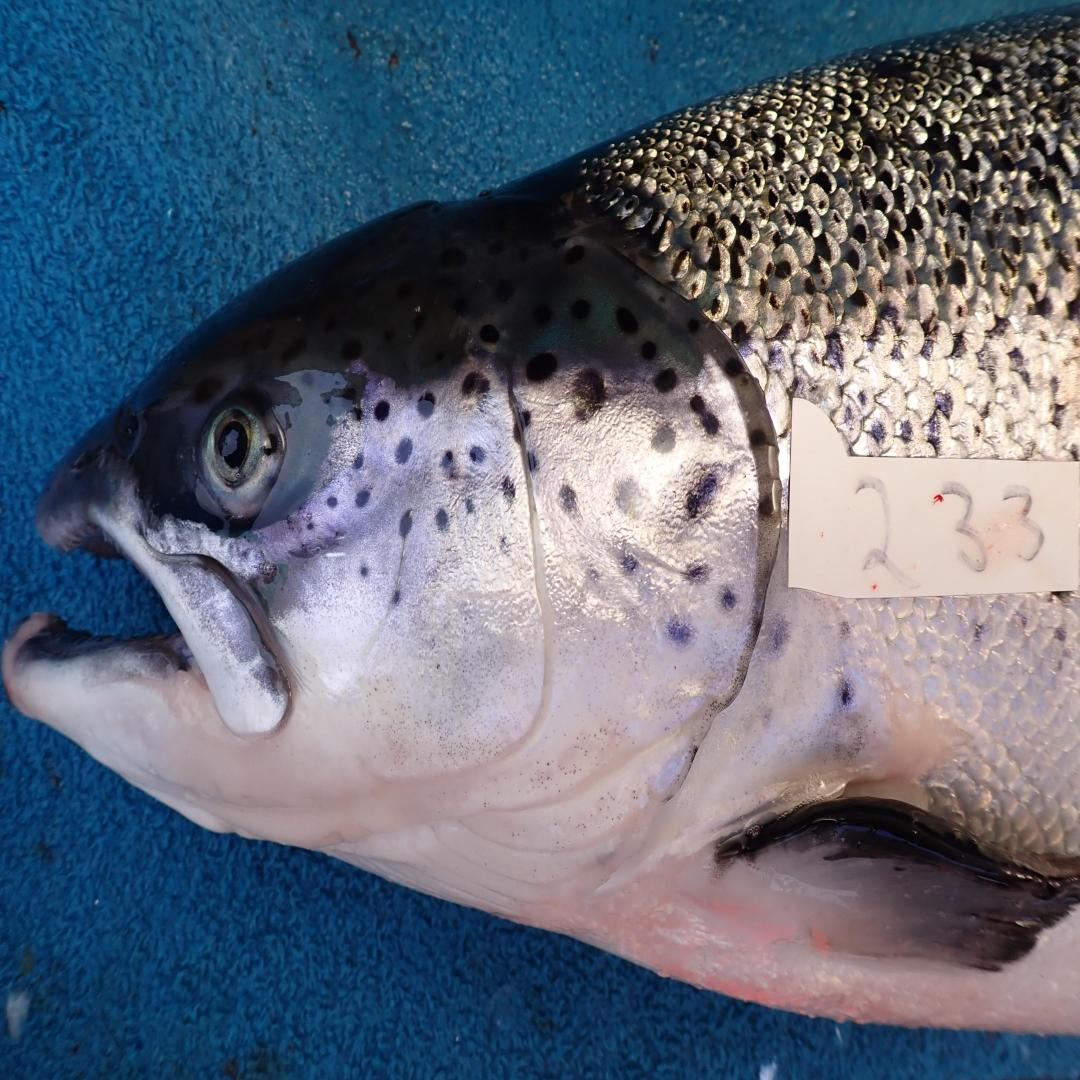spot: (683, 470, 719, 520), (572, 368, 605, 422), (690, 394, 719, 436), (616, 478, 641, 518), (525, 352, 557, 382), (510, 402, 532, 444), (681, 557, 713, 585), (667, 616, 694, 647), (757, 489, 782, 520), (462, 371, 489, 397), (652, 425, 677, 453), (618, 548, 639, 577), (654, 368, 677, 394), (559, 484, 578, 512), (441, 450, 460, 478), (394, 439, 413, 464), (749, 428, 774, 447), (418, 391, 435, 416), (399, 509, 413, 537), (373, 399, 390, 422), (586, 565, 601, 591), (468, 444, 487, 464), (719, 588, 736, 610), (435, 506, 449, 532), (502, 475, 515, 503), (725, 358, 744, 377), (464, 489, 477, 515), (350, 402, 365, 422), (354, 489, 369, 506), (527, 450, 538, 472), (359, 562, 371, 579), (352, 453, 363, 470), (325, 496, 339, 509), (498, 536, 508, 554), (392, 588, 401, 605), (306, 520, 314, 529)
